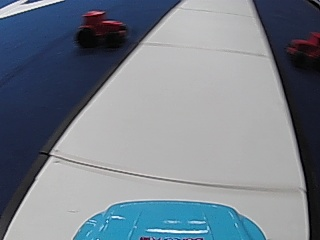tractor: (75, 8, 128, 49), (285, 29, 319, 70)
